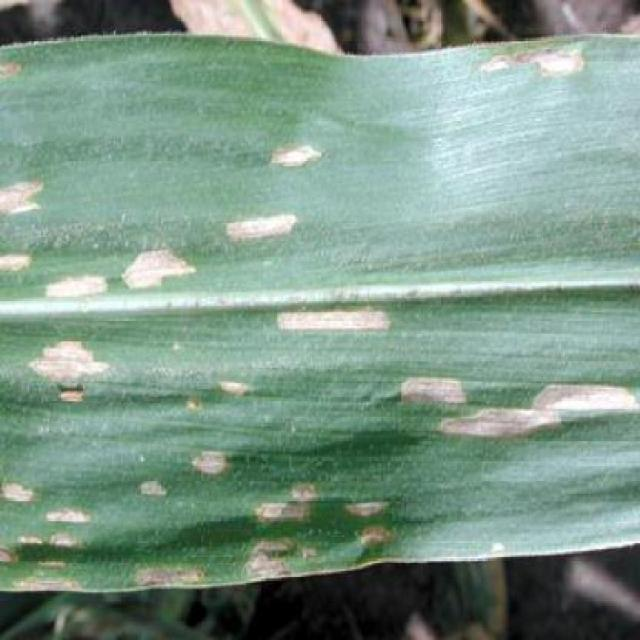Corn_Grey_Leaf_Spot: (9, 28, 640, 577)
